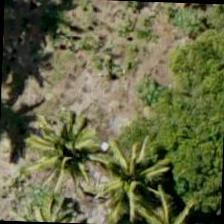Kelapa_Sawit: (82, 127, 176, 220), (24, 102, 117, 195)
